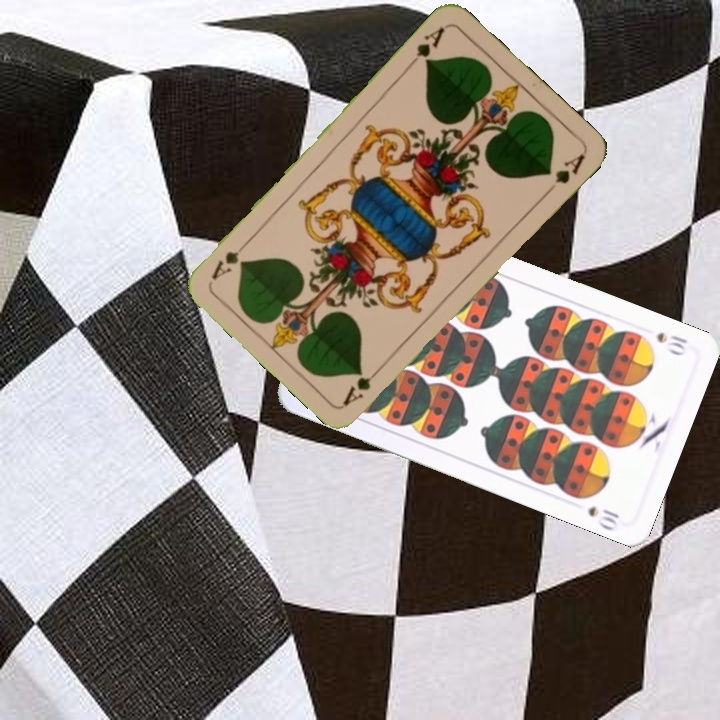GA: (339, 361, 386, 409), (403, 23, 448, 71)
S10: (652, 328, 690, 358)
